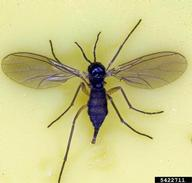Fruit fly: (11, 34, 179, 159)
